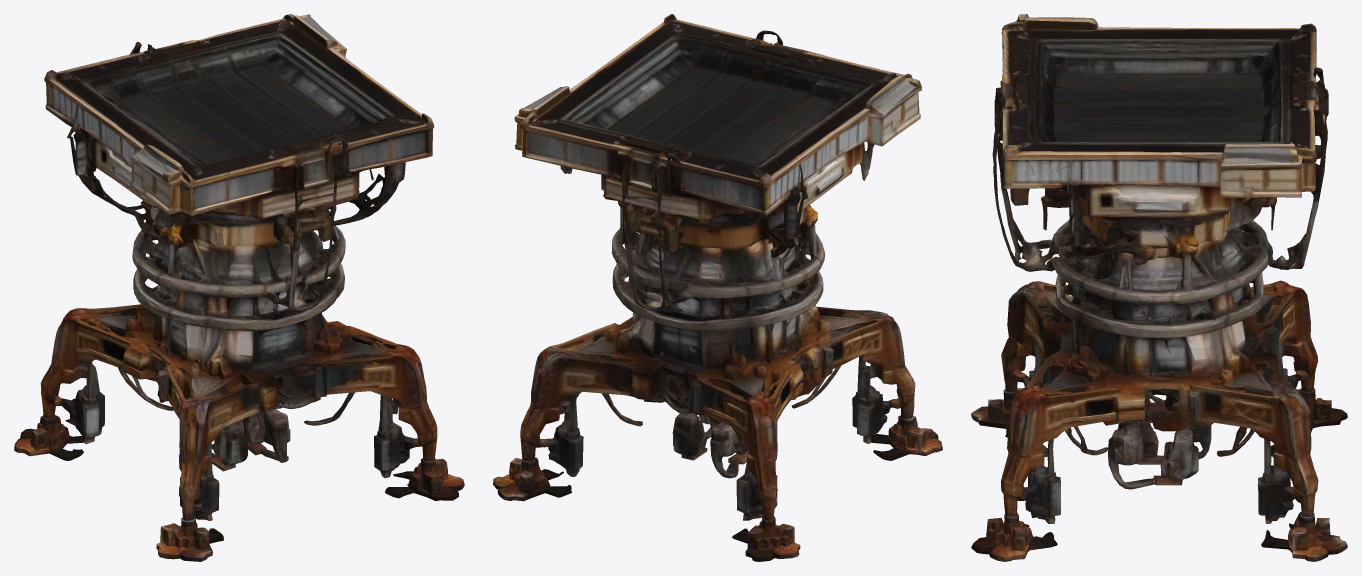
Rendered from prop_hangar_crane.glb.
3 views of the same model, side by side, from view 1: azimuth 30°, elevation 25°; view 2: azimuth 150°, elevation 25°; view 3: azimuth 270°, elevation 25° (orthographic). The views are drawn at different scales.
Visible parts, largest first — view 1: geometry_0; view 2: geometry_0; view 3: geometry_0.
Boxes of the visible parts, <box> form: geometry_0: <box>14,14,464,561</box>; geometry_0: <box>493,14,942,561</box>; geometry_0: <box>971,14,1347,561</box>.
Bounding box in the file's own units: 0.8424 × 0.9948 × 0.8435.
1 material, 1 textured.
